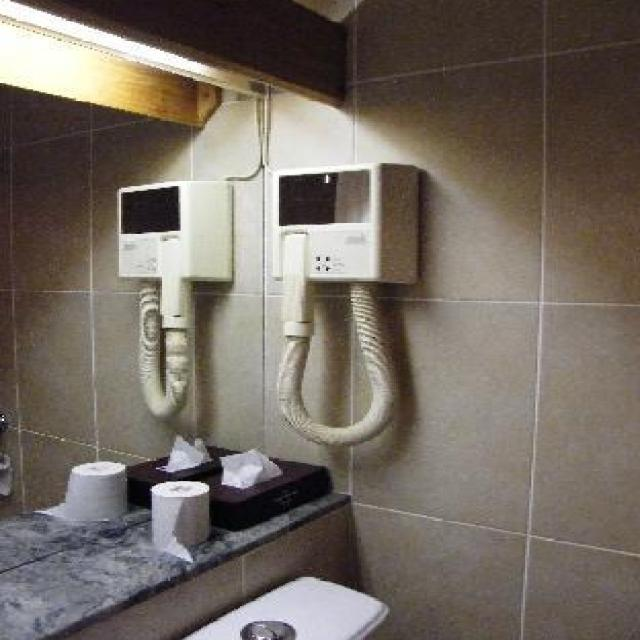dryer: (226, 148, 445, 459)
